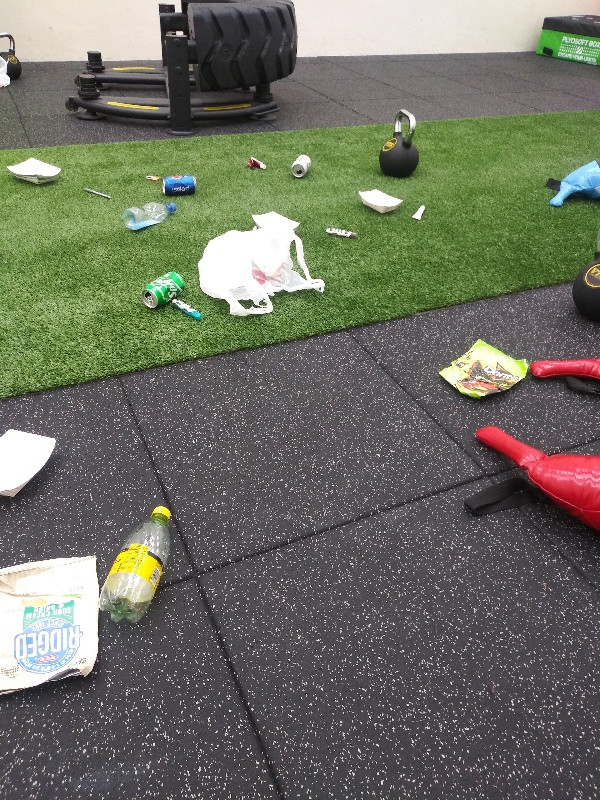bag: (1, 546, 110, 696), (434, 331, 534, 402)
bottle: (96, 501, 179, 625), (123, 194, 182, 235)
can: (137, 268, 189, 312), (160, 170, 200, 195), (285, 149, 314, 181)
plate: (1, 425, 66, 504), (4, 154, 66, 187), (354, 187, 406, 216)
